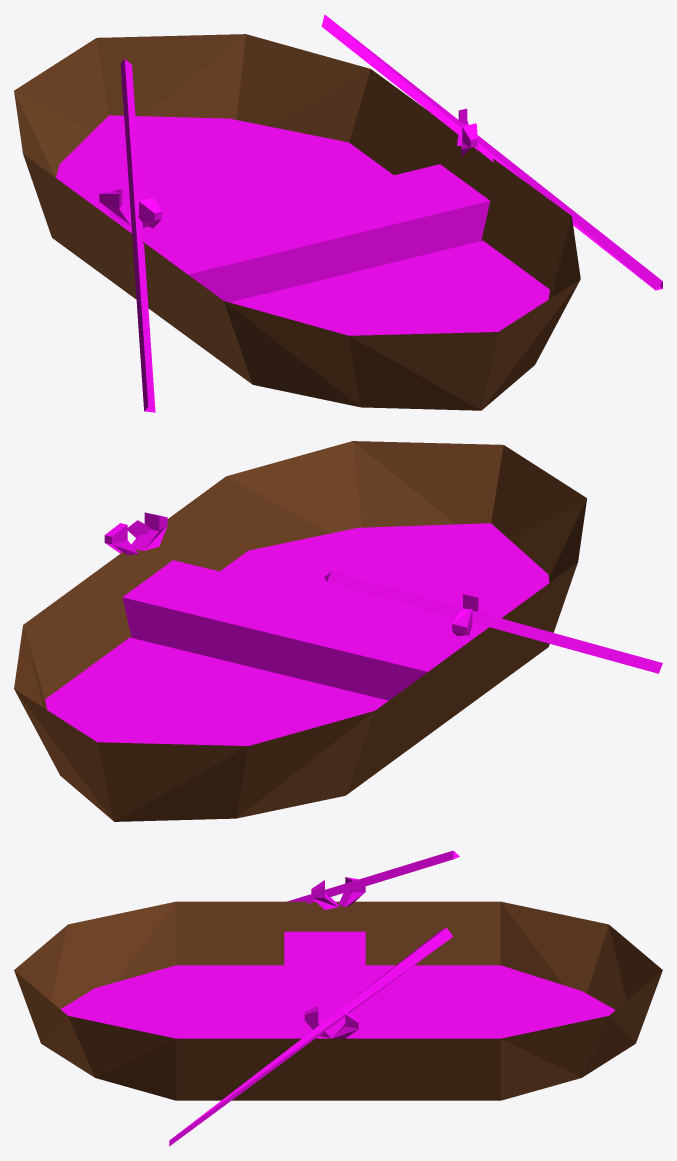
File: rowboat.obj
3 renders of one model, top to bottom at view 1: azimuth 30°, elevation 25°; view 2: azimuth 150°, elevation 25°; view 3: azimuth 270°, elevation 25°, orthographic. The views are drawn at different scales.
Visible parts, largest first — view 1: rowboat_back, rowboat_front; view 2: rowboat_back, rowboat_front; view 3: rowboat_back, rowboat_front.
Boxes of the visible parts, x1,y1,x2,y2 form: rowboat_back: [14, 14, 662, 412]; rowboat_front: [56, 109, 549, 335]; rowboat_back: [14, 441, 662, 821]; rowboat_front: [45, 512, 506, 745]; rowboat_back: [14, 850, 662, 1146]; rowboat_front: [114, 877, 615, 1038].
Size of the model in its own units: 2.84 by 1 by 3.84.
